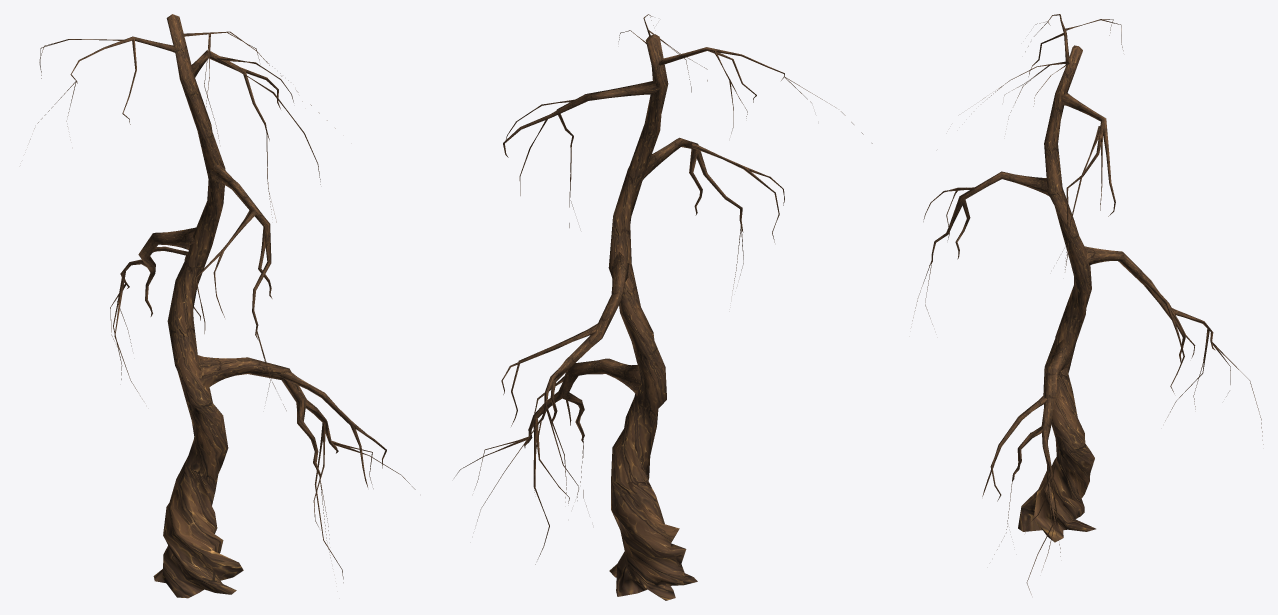
Rendered from DeadTree4.fbx.
3 views of the same model, side by side, from view 1: azimuth 30°, elevation 25°; view 2: azimuth 150°, elevation 25°; view 3: azimuth 270°, elevation 25° (orthographic). The views are drawn at different scales.
Visible parts, largest first — view 1: tree2_0; view 2: tree2_0; view 3: tree2_0.
Part boxes in pixels (<box>): tree2_0: <box>30,14,415,598</box>; tree2_0: <box>454,14,872,600</box>; tree2_0: <box>912,14,1263,594</box>.
Size of the model in its own units: 323 by 432 by 281.
1 material, 1 textured.
